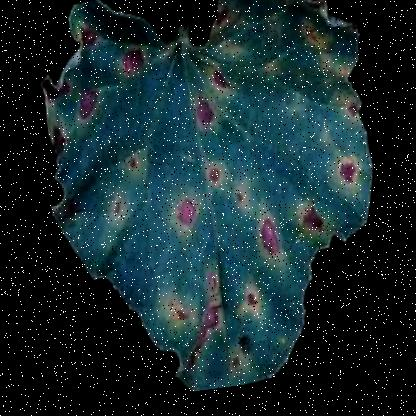Anthracnose: (111, 53, 299, 246), (150, 228, 310, 400), (55, 6, 160, 151)
